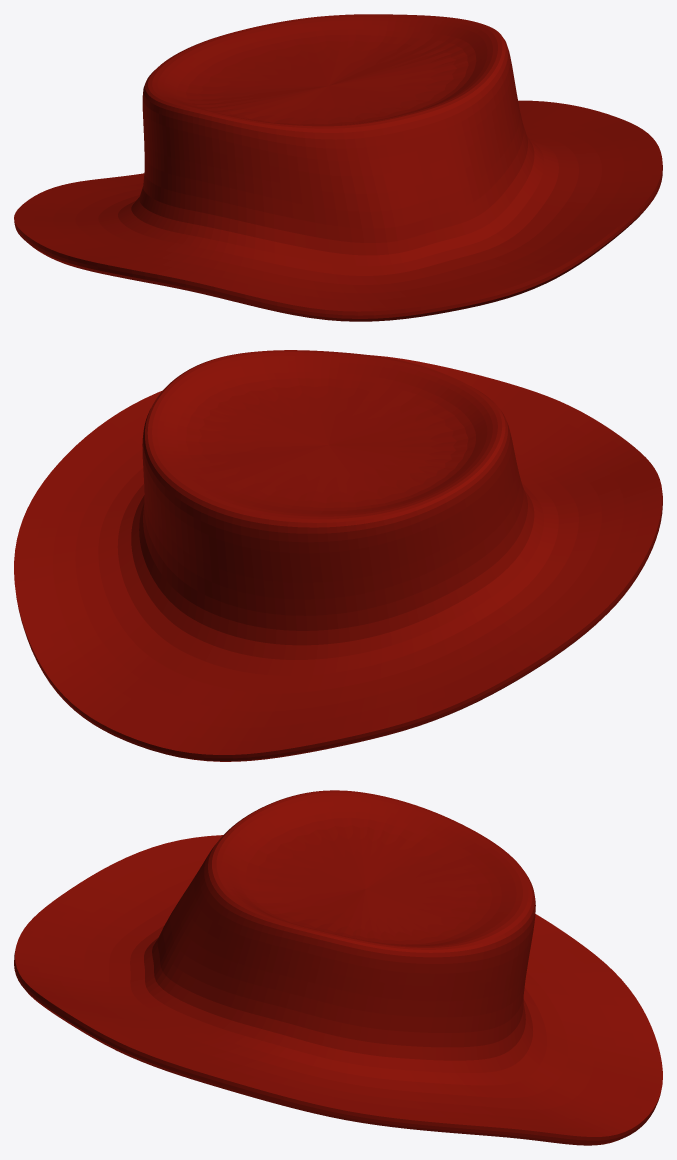
The picture shows the model from 3 angles, top to bottom: view 1: azimuth 30°, elevation 25°; view 2: azimuth 150°, elevation 25°; view 3: azimuth 270°, elevation 25°; orthographic projection. The views are drawn at different scales.
Parts seen in each view (by area): view 1: Red Hat; view 2: Red Hat; view 3: Red Hat.
Part boxes in pixels (<box>): Red Hat: <box>14,14,662,321</box>; Red Hat: <box>14,350,662,761</box>; Red Hat: <box>14,790,662,1145</box>.
Bounding box in the file's own units: 1.09 × 0.4359 × 1.13.
